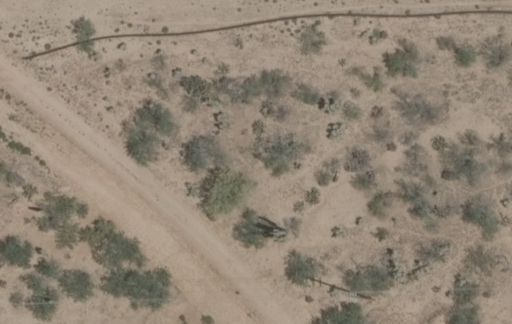DT: (300, 273, 368, 299)
